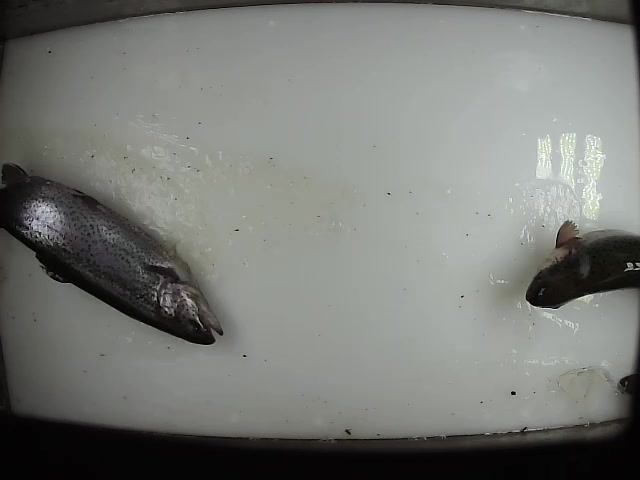fish: (1, 157, 225, 348), (522, 220, 640, 310)
